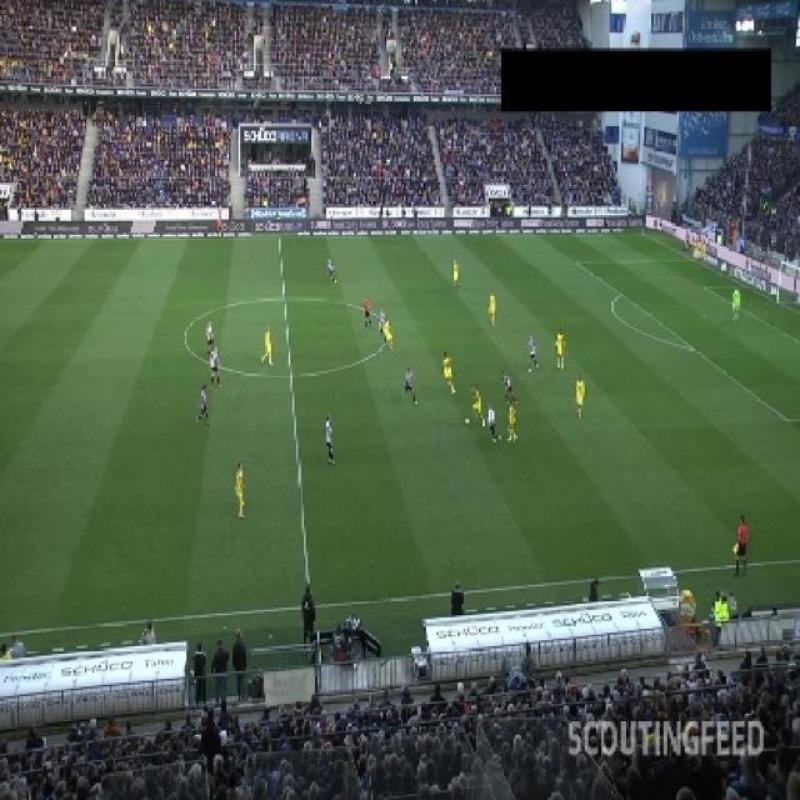1: (632, 224, 652, 240)
10: (613, 287, 629, 303)
11: (683, 338, 701, 358)
12: (776, 408, 796, 431)
13: (271, 226, 289, 246)
14: (274, 282, 294, 310)
15: (277, 358, 302, 386)
2: (682, 248, 700, 266)
3: (740, 280, 754, 294)
7: (696, 278, 714, 298)
9: (567, 254, 583, 272)
c: (171, 322, 201, 356)
